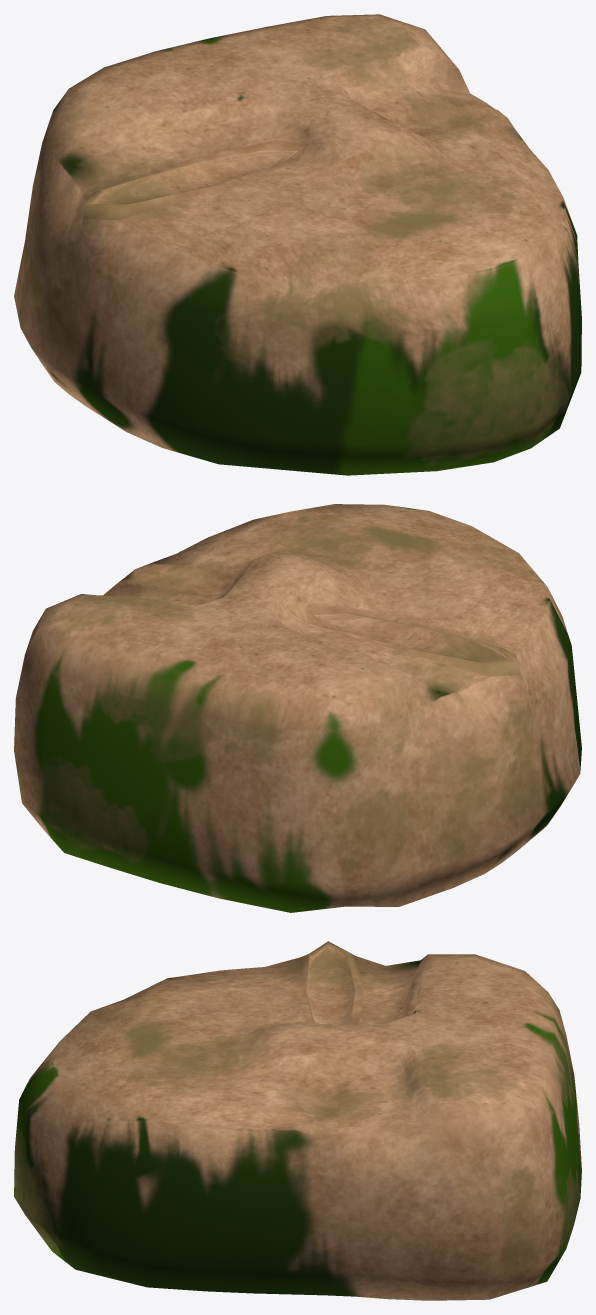
File: piedra_cabeza.fbx
3 renders of one model, top to bottom at view 1: azimuth 30°, elevation 25°; view 2: azimuth 150°, elevation 25°; view 3: azimuth 270°, elevation 25°, orthographic. The views are drawn at different scales.
Visible parts, largest first — view 1: polySurface2; view 2: polySurface2; view 3: polySurface2.
Part boxes in pixels (x1,y1,x2,y2): polySurface2: (14,14,581,475); polySurface2: (14,504,581,912); polySurface2: (14,941,581,1300).
Bounding box in the file's own units: 2 × 0.9938 × 2.36.
